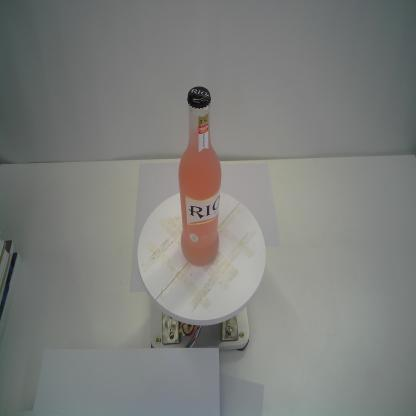Alcohol: (177, 82, 222, 271)
